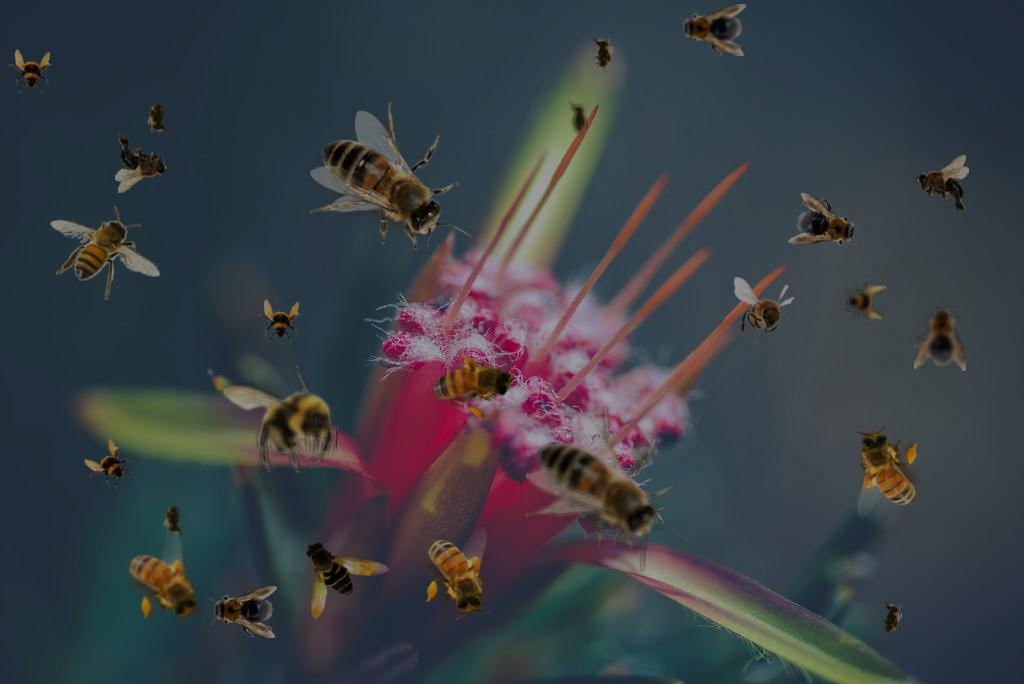Bee: (526, 405, 688, 572), (310, 102, 472, 269), (223, 366, 338, 473), (414, 332, 528, 433), (116, 527, 212, 638), (50, 206, 161, 300), (303, 538, 391, 620), (853, 425, 921, 518), (423, 527, 491, 620), (788, 192, 866, 258), (734, 277, 795, 347), (77, 434, 141, 498), (678, 4, 746, 56), (209, 586, 277, 638), (914, 303, 966, 371), (115, 131, 168, 193), (916, 155, 969, 217), (8, 49, 52, 93), (842, 278, 886, 322), (257, 299, 301, 343), (875, 597, 907, 641), (147, 97, 169, 137), (163, 499, 185, 539), (568, 99, 590, 139), (592, 34, 614, 74)
